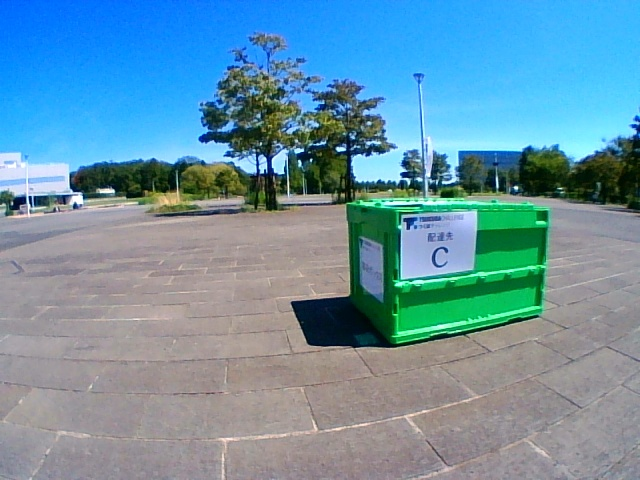green_box: (346, 197, 551, 343)
tag_c: (404, 213, 474, 270)
